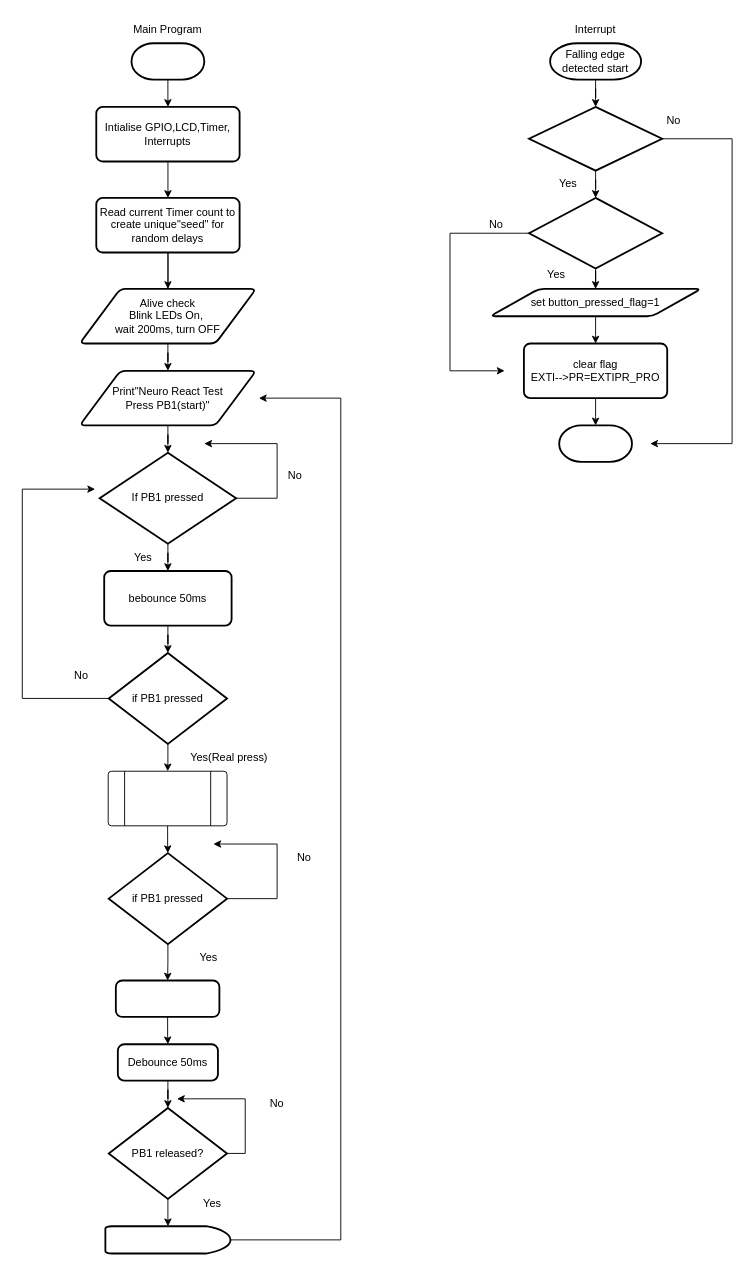
Image size: 755x1269. Some labels were removed from this diagram. Here are the shapes that lost their labels. From the top down, the centre of each, then its label:
point 167,61: Start
point 595,138: if EXTI -->PR & EXTI_PR_PRO
point 595,233: if test_in_progress ==1
point 595,443: main
point 167,798: call subrountine
point 167,998: Reset
point 167,1239: Delay 200ms
